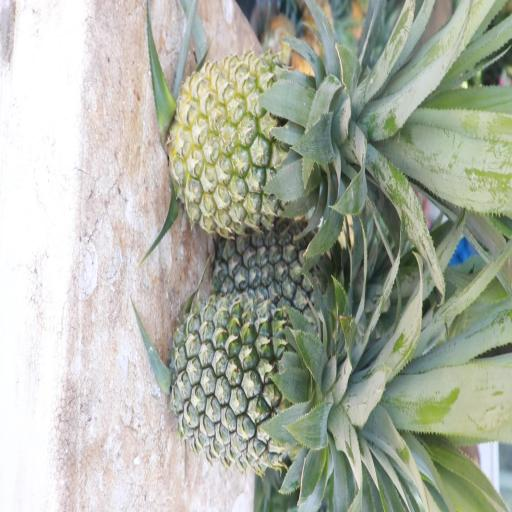Pineapple - v8 v1: (177, 50, 358, 219)
